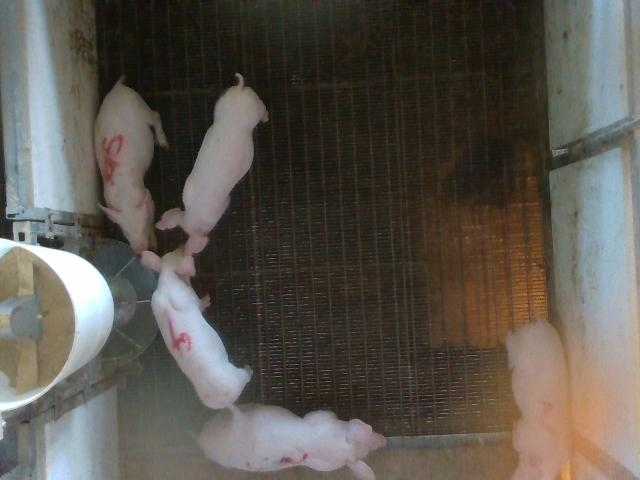pig-2: (506, 320, 571, 478)
pig-3: (198, 405, 386, 479)
pig-4: (141, 249, 251, 409)
pig-5: (95, 76, 168, 253)
